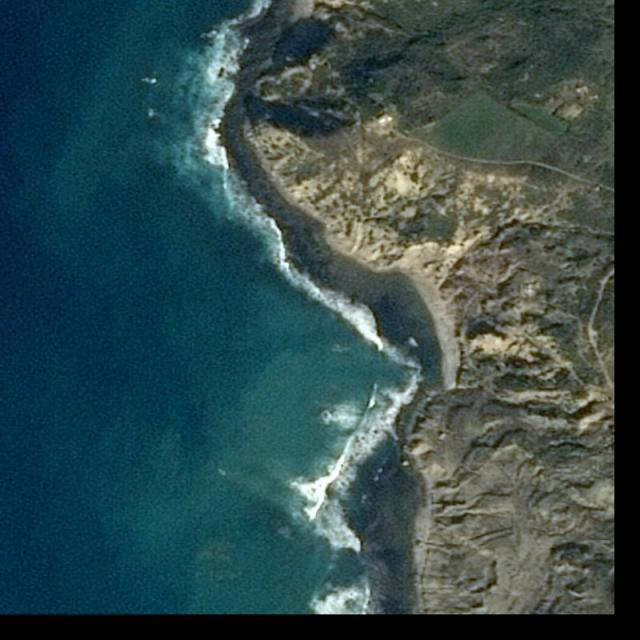ship: (218, 469, 228, 477)
